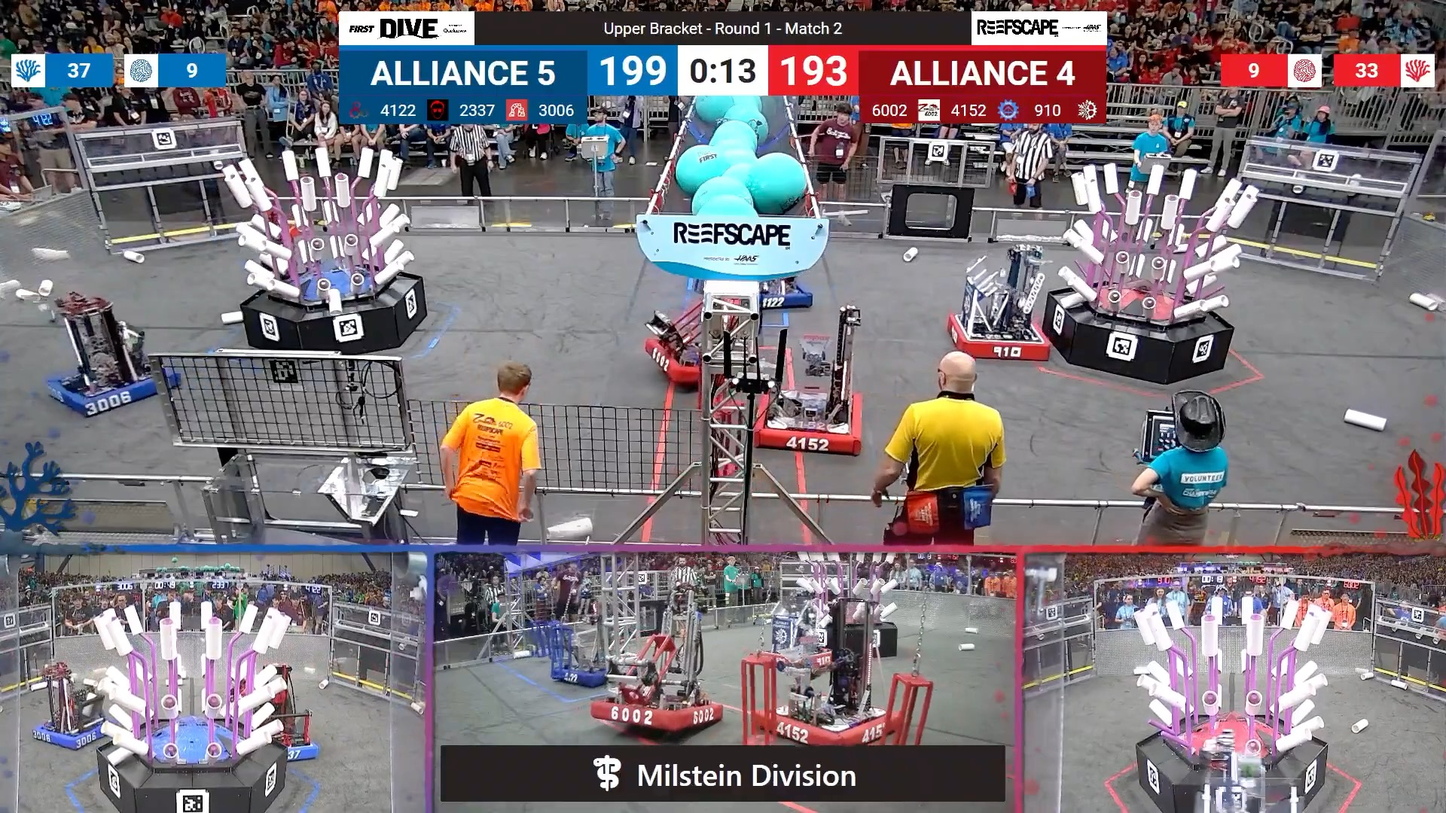bumpers: (747, 388, 869, 458), (41, 364, 178, 419), (942, 306, 1057, 364), (590, 687, 727, 735), (761, 708, 895, 745), (645, 341, 715, 392), (27, 714, 117, 752), (267, 720, 322, 763), (545, 662, 628, 688), (749, 279, 817, 309)
